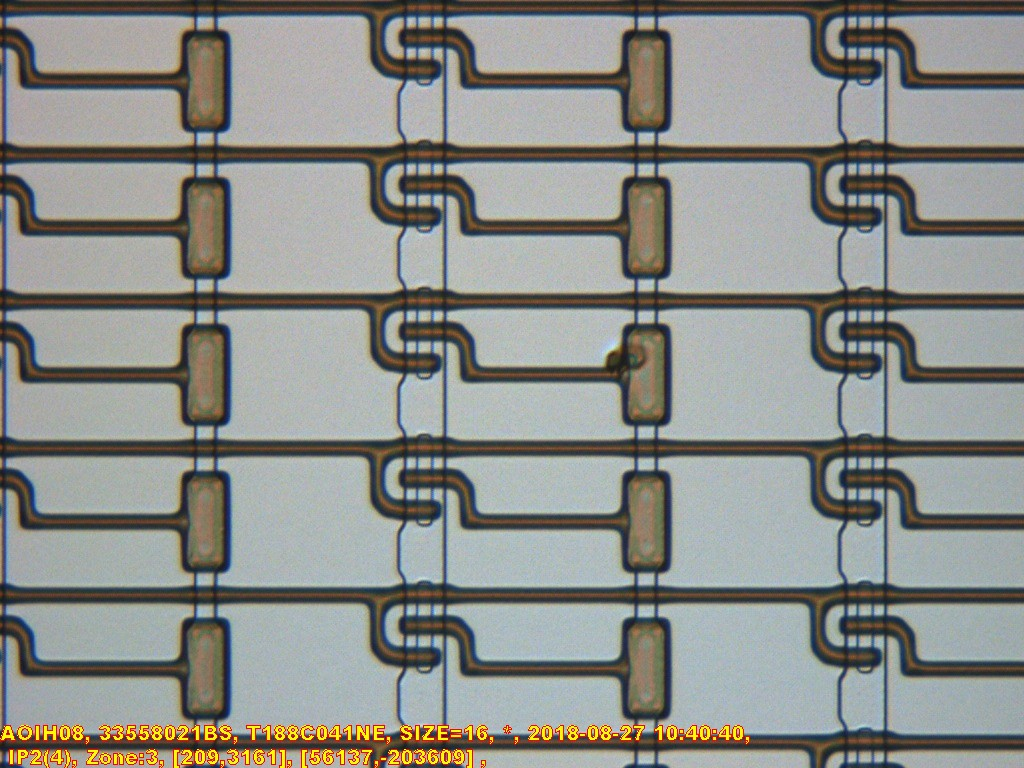good: (345, 120, 485, 238), (797, 136, 925, 238), (357, 282, 485, 384), (797, 283, 925, 385), (356, 429, 484, 531), (797, 430, 925, 532), (356, 576, 484, 678), (797, 577, 925, 679), (176, 30, 236, 135), (616, 30, 676, 135), (176, 177, 236, 282), (616, 177, 676, 282), (176, 324, 236, 429), (175, 470, 235, 575), (616, 471, 676, 576), (175, 618, 235, 723), (616, 617, 676, 722)
ng: (616, 323, 676, 428)
